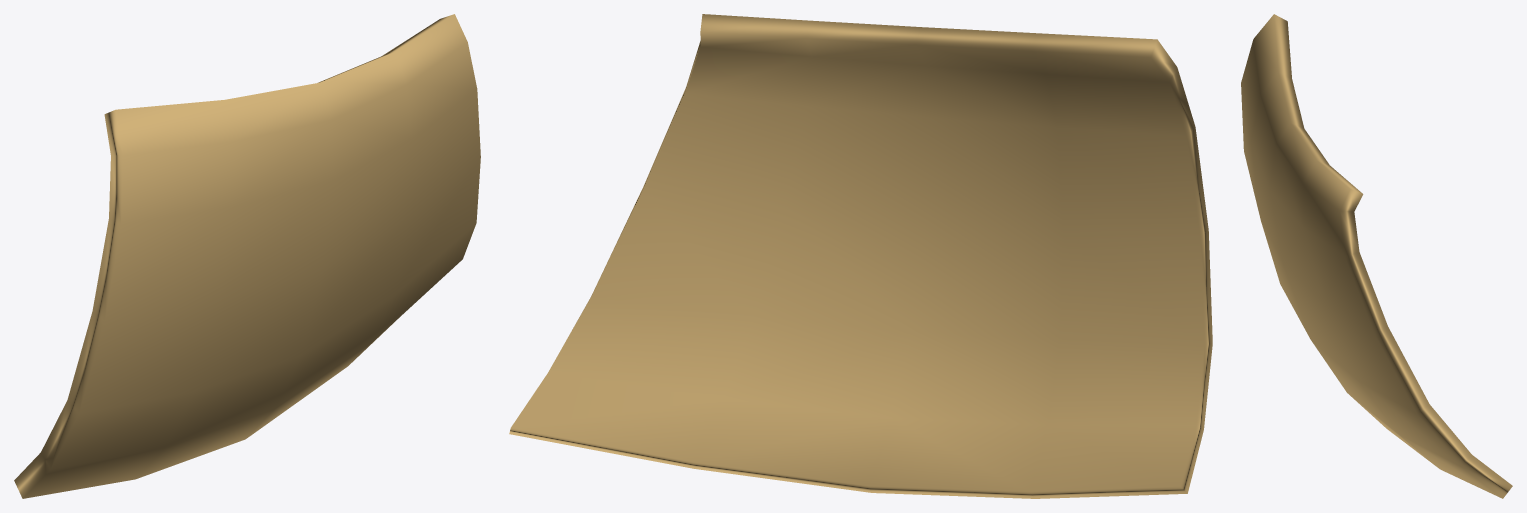
3 views of the same model, side by side, from view 1: azimuth 30°, elevation 25°; view 2: azimuth 150°, elevation 25°; view 3: azimuth 270°, elevation 25° (orthographic). The views are drawn at different scales.
Parts seen in each view (by area): view 1: 右侧距舟韧带; view 2: 右侧距舟韧带; view 3: 右侧距舟韧带.
Boxes of the visible parts, <box> form: 右侧距舟韧带: <box>14,14,480,498</box>; 右侧距舟韧带: <box>509,14,1212,498</box>; 右侧距舟韧带: <box>1241,14,1512,498</box>.
Bounding box in the file's own units: 0.0216 × 0.0166 × 0.0121.
